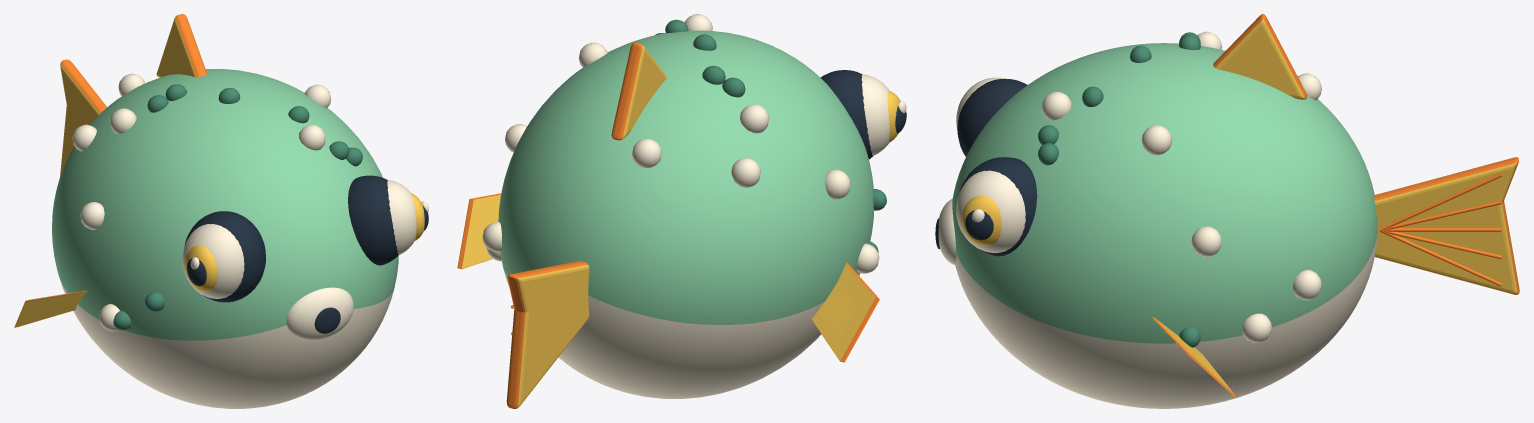
Rendered from pufferfish-hd.glb.
3 views of the same model, side by side, from view 1: azimuth 30°, elevation 25°; view 2: azimuth 150°, elevation 25°; view 3: azimuth 270°, elevation 25° (orthographic). The views are drawn at different scales.
Parts seen in each view (by area): view 1: BodyMesh, TailMesh; view 2: BodyMesh, TailMesh; view 3: BodyMesh, TailMesh.
Part boxes in pixels (<box>): BodyMesh: <box>14,14,428,408</box>; TailMesh: <box>60,59,106,176</box>; BodyMesh: <box>457,14,906,398</box>; TailMesh: <box>506,261,589,408</box>; BodyMesh: <box>935,14,1377,408</box>; TailMesh: <box>1374,157,1519,294</box>.
Size of the model in its own units: 2.03 by 1.75 by 2.46.
